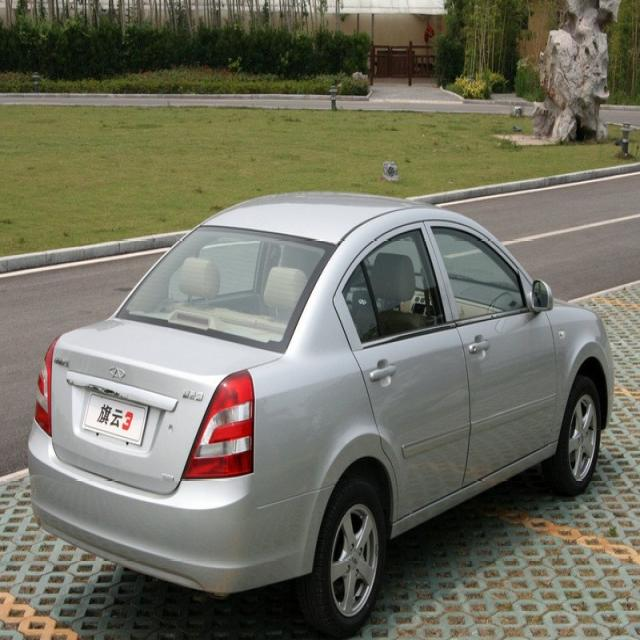back_glass: (116, 224, 336, 352)
back_left_side_light: (33, 332, 61, 439)
back_right_side_light: (182, 366, 257, 484)
door: (332, 220, 461, 490)
front_right_side_door: (422, 214, 561, 494)
front_right_side_mirror: (530, 276, 554, 316)
rear_bumper: (27, 418, 336, 594)
wheel: (304, 482, 387, 633), (548, 372, 602, 501)
